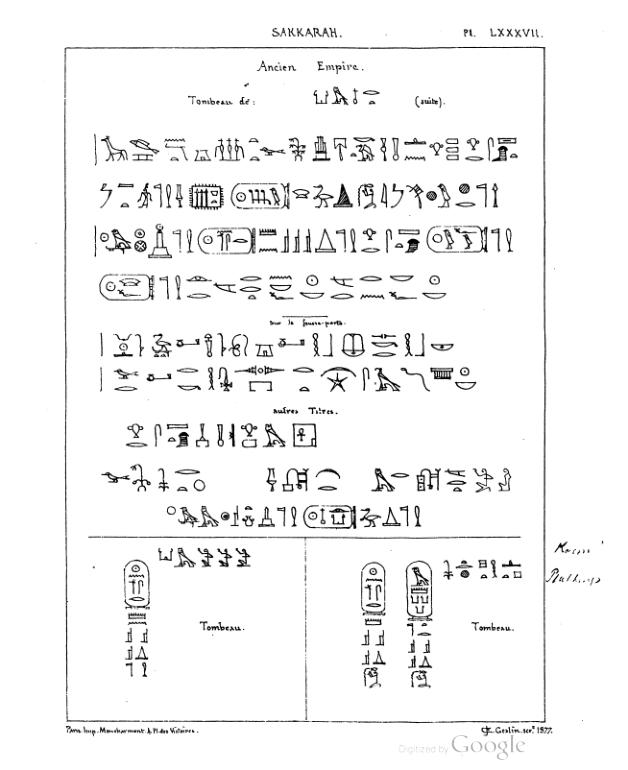circle: (401, 557, 438, 622), (96, 270, 158, 305), (354, 555, 389, 617), (227, 180, 292, 213), (195, 224, 260, 256), (424, 224, 491, 255), (119, 557, 154, 613), (299, 503, 360, 531)
